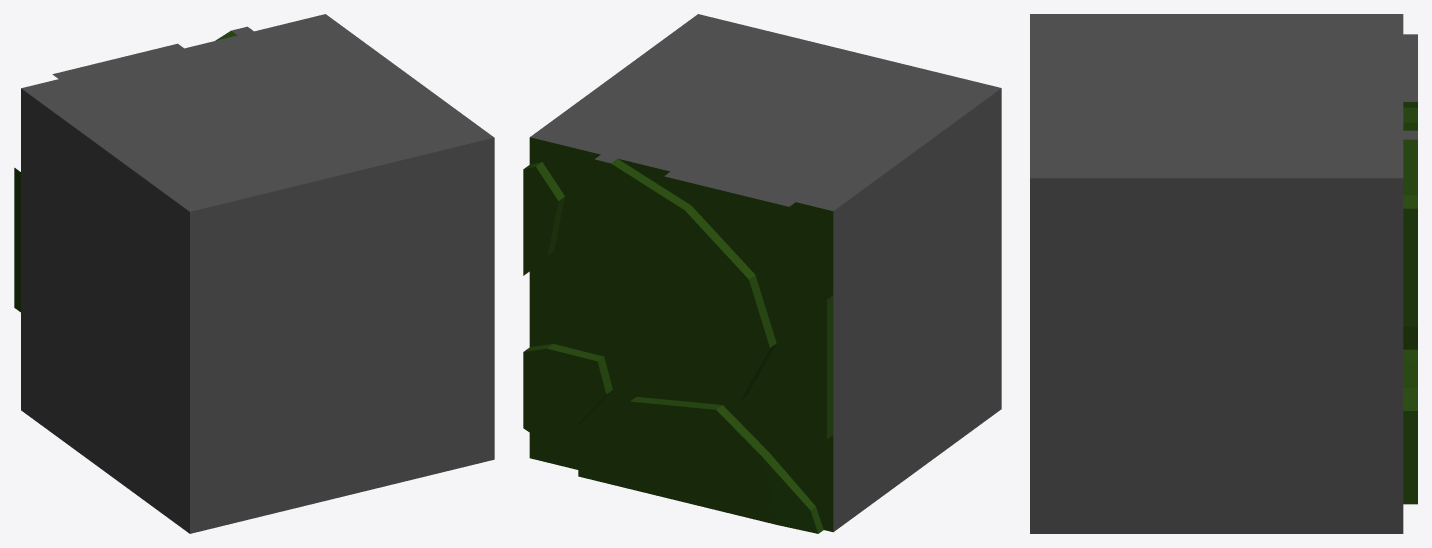
File: BL Floor.fbx
3 views of the same model, side by side, from view 1: azimuth 30°, elevation 25°; view 2: azimuth 150°, elevation 25°; view 3: azimuth 270°, elevation 25° (orthographic). The views are drawn at different scales.
Parts seen in each view (by area): view 1: Bottom left; view 2: Bottom left; view 3: Bottom left.
Boxes of the visible parts, x1,y1,x2,y2 form: Bottom left: (14,14,494,533); Bottom left: (523,14,1001,533); Bottom left: (1030,14,1417,533).
Size of the model in its own units: 100 by 100 by 101.
